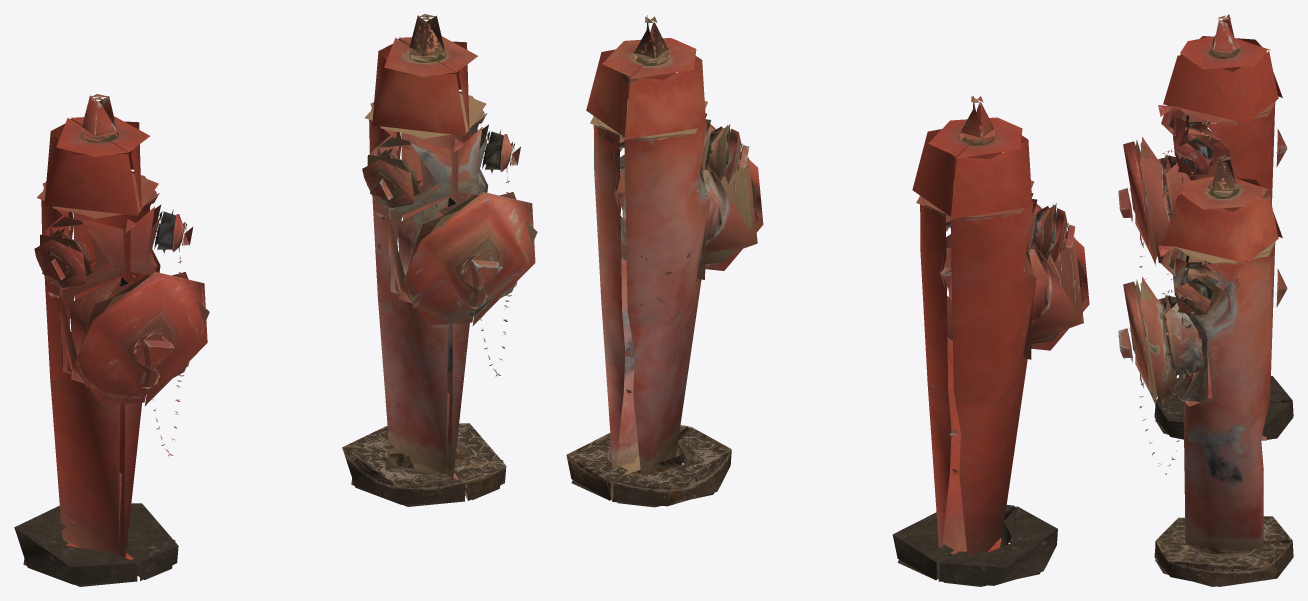
File: fire_hydrant.glb
3 views of the same model, side by side, from view 1: azimuth 30°, elevation 25°; view 2: azimuth 150°, elevation 25°; view 3: azimuth 270°, elevation 25° (orthographic). The views are drawn at different scales.
Parts seen in each view (by area): view 1: fire_hydrant, fire_hydrant_aged, fire_hydrant_cap_01_aged, fire_hydrant_cap_01, fire_hydrant_cap_03_aged, fire_hydrant_cap_03; view 2: fire_hydrant_aged, fire_hydrant, fire_hydrant_cap_01_aged, fire_hydrant_cap_01, fire_hydrant_cap_03_aged, fire_hydrant_cap_03; view 3: fire_hydrant_aged, fire_hydrant, fire_hydrant_cap_01, fire_hydrant_cap_01_aged, fire_hydrant_cap_02, fire_hydrant_cap_02_aged, fire_hydrant_chain_aged, fire_hydrant_cap_03_aged, fire_hydrant_cap_03.
Part boxes in pixels (bbox=[...]): fire_hydrant: bbox=[14, 94, 189, 586]; fire_hydrant_aged: bbox=[342, 14, 517, 506]; fire_hydrant_cap_01_aged: bbox=[400, 192, 537, 325]; fire_hydrant_cap_01: bbox=[73, 272, 209, 405]; fire_hydrant_cap_03_aged: bbox=[362, 154, 419, 208]; fire_hydrant_cap_03: bbox=[34, 234, 92, 288]; fire_hydrant_aged: bbox=[566, 15, 757, 507]; fire_hydrant: bbox=[892, 96, 1083, 586]; fire_hydrant_cap_01_aged: bbox=[705, 124, 763, 270]; fire_hydrant_cap_01: bbox=[1031, 203, 1089, 350]; fire_hydrant_cap_03_aged: bbox=[718, 124, 749, 183]; fire_hydrant_cap_03: bbox=[1044, 203, 1075, 262]; fire_hydrant_aged: bbox=[1140, 154, 1293, 586]; fire_hydrant: bbox=[1140, 14, 1293, 439]; fire_hydrant_cap_01: bbox=[1118, 139, 1157, 265]; fire_hydrant_cap_01_aged: bbox=[1118, 279, 1157, 406]; fire_hydrant_cap_02: bbox=[1174, 140, 1212, 175]; fire_hydrant_cap_02_aged: bbox=[1174, 281, 1212, 316]; fire_hydrant_chain_aged: bbox=[1130, 289, 1197, 474]; fire_hydrant_cap_03_aged: bbox=[1161, 245, 1211, 274]; fire_hydrant_cap_03: bbox=[1161, 105, 1211, 134].
Size of the model in its own units: 0.8728 by 0.8049 by 0.3173.
2 materials, 2 textured.
